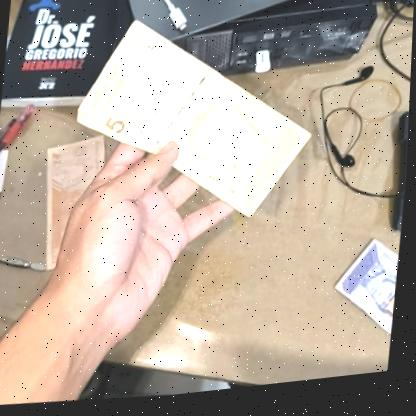five-front-vef: (68, 4, 323, 241)
ten-front-vef: (327, 243, 401, 386)
